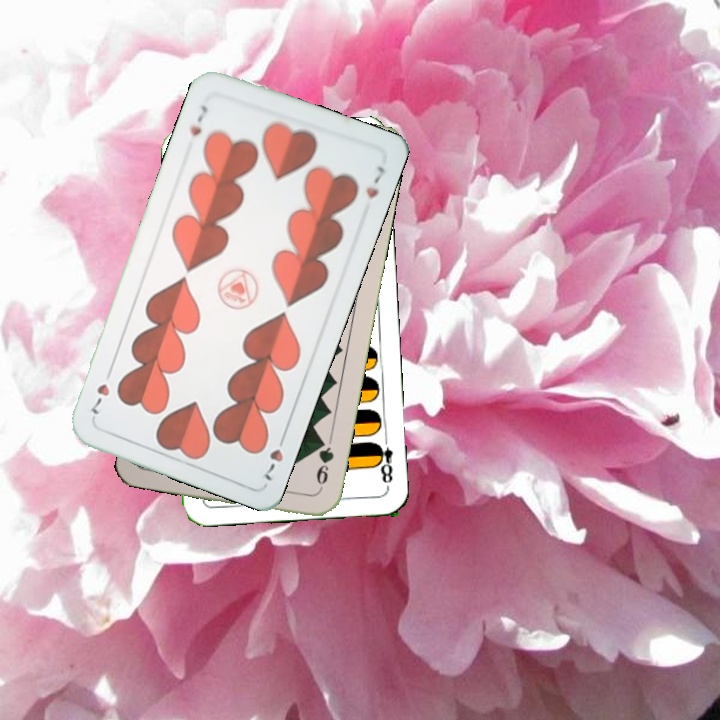E8: (370, 431, 395, 490)
G9: (312, 434, 337, 494)
H7: (260, 428, 290, 484), (185, 101, 211, 139)
